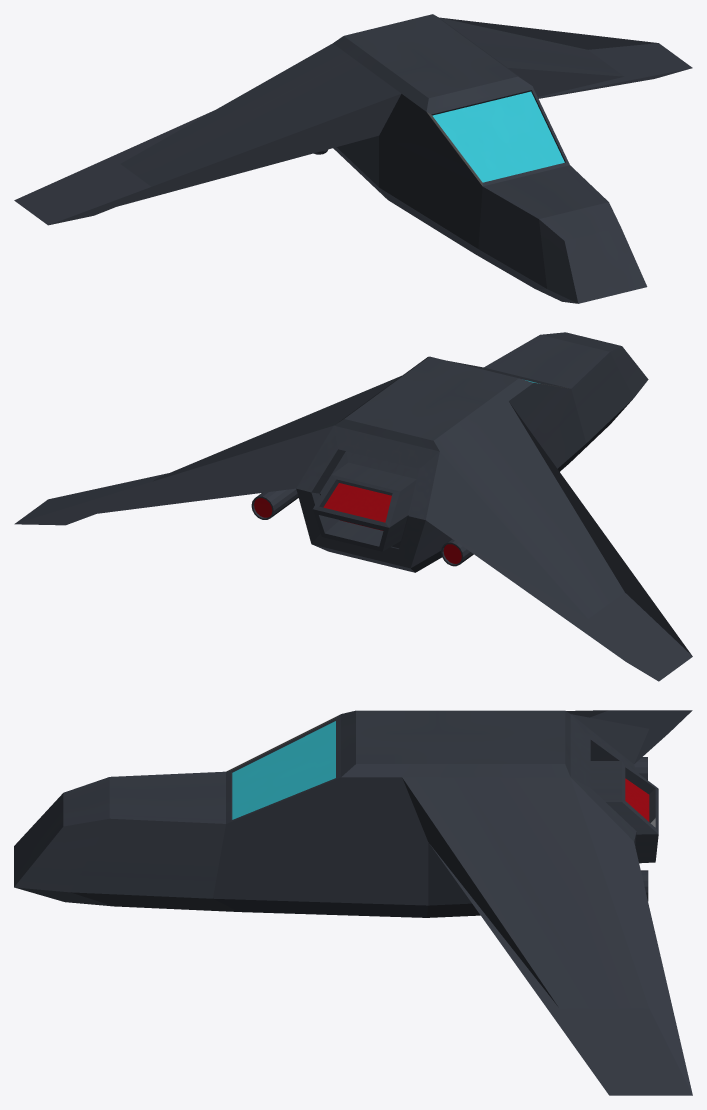
Rendered from spaceship_model.fbx.
The picture shows the model from 3 angles, top to bottom: view 1: azimuth 30°, elevation 25°; view 2: azimuth 150°, elevation 25°; view 3: azimuth 270°, elevation 25°; orthographic projection. The views are drawn at different scales.
Parts seen in each view (by area): view 1: Ship; view 2: Ship; view 3: Ship.
Boxes of the visible parts, bbox=[...] form: Ship: bbox=[14, 14, 692, 303]; Ship: bbox=[14, 332, 692, 681]; Ship: bbox=[14, 710, 692, 1095].
Bounding box in the file's own units: 1300 × 260 × 967.
Materials: 1 (1 with a texture image).
